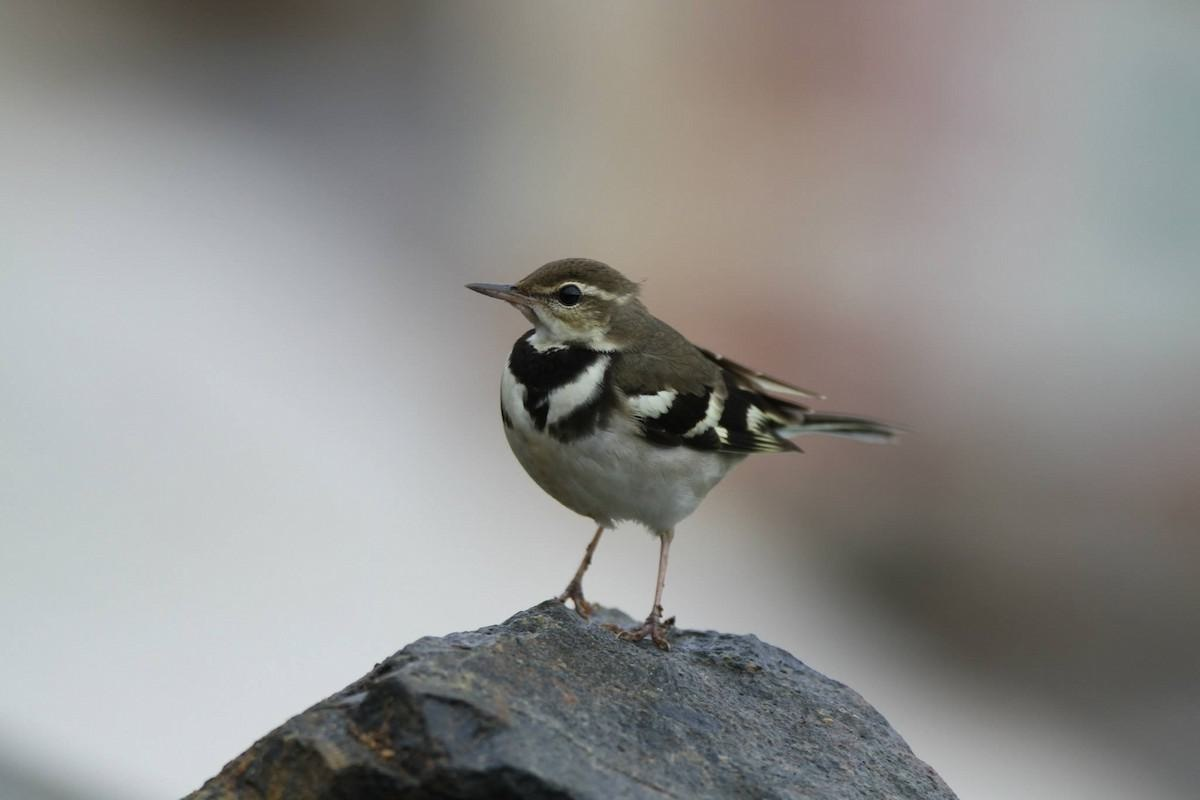wagtail: (481, 214, 894, 690)
